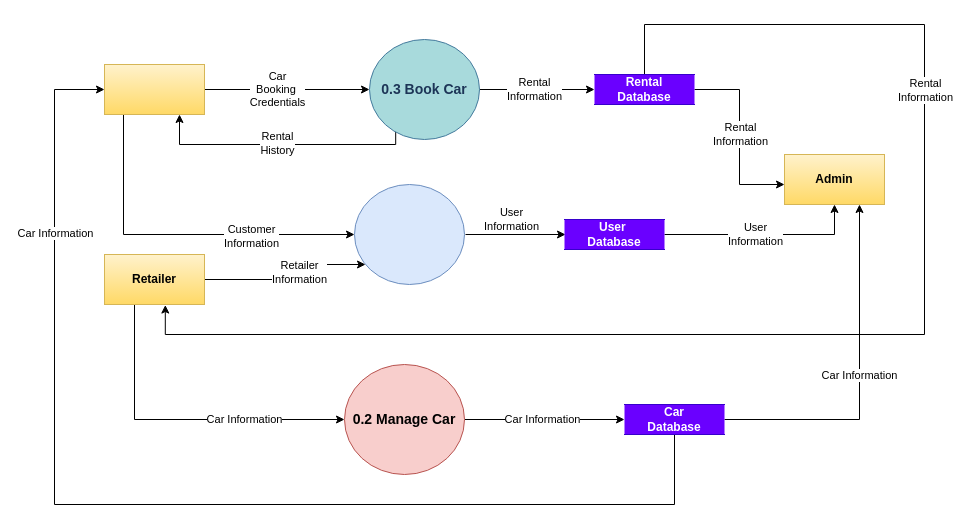
The diagram is 970 pixels wide and 530 high, and some of its shapes have lost their labels. The centre of each missing label's shape, as x and y in pixels:
"0.1 Manage User" goes at point 409,234.
"Customer" goes at point 154,89.
